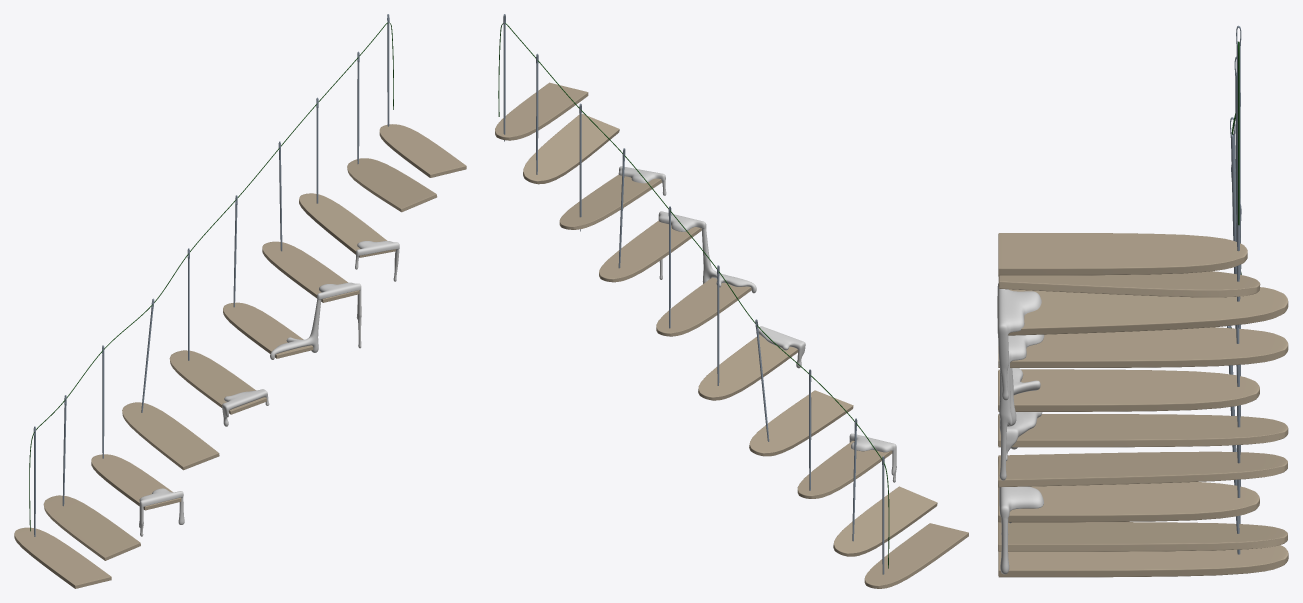
The model's file is Stairs.fbx.
3 views of the same model, side by side, from view 1: azimuth 30°, elevation 25°; view 2: azimuth 150°, elevation 25°; view 3: azimuth 270°, elevation 25° (orthographic). The views are drawn at different scales.
Parts seen in each view (by area): view 1: pCube340; view 2: pCube340; view 3: pCube340.
Boxes of the visible parts, <box> form: pCube340: <box>14,14,466,588</box>; pCube340: <box>495,14,968,588</box>; pCube340: <box>997,25,1288,577</box>.
Size of the model in its own units: 62.69 by 68.2 by 20.18.
